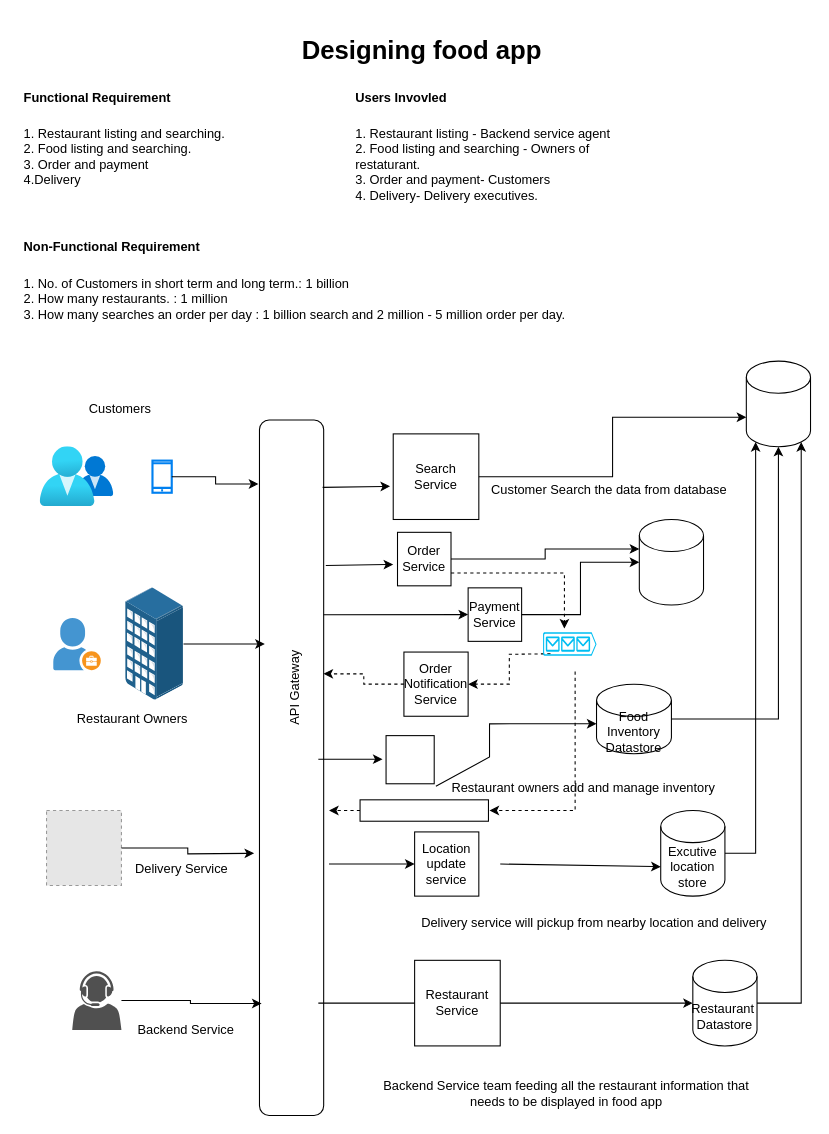
Some shapes in this 829 by 1134 pixel diagram are drawn without their labels. Grey dashed boxes stand in for pictures. The centre of each missing label's shape, as x and y in pixels:
Delivery Assignment: [423,810]
Food Inventory Service: [409,759]
Order Store: [671,561]
Search Datastore: [778,403]
